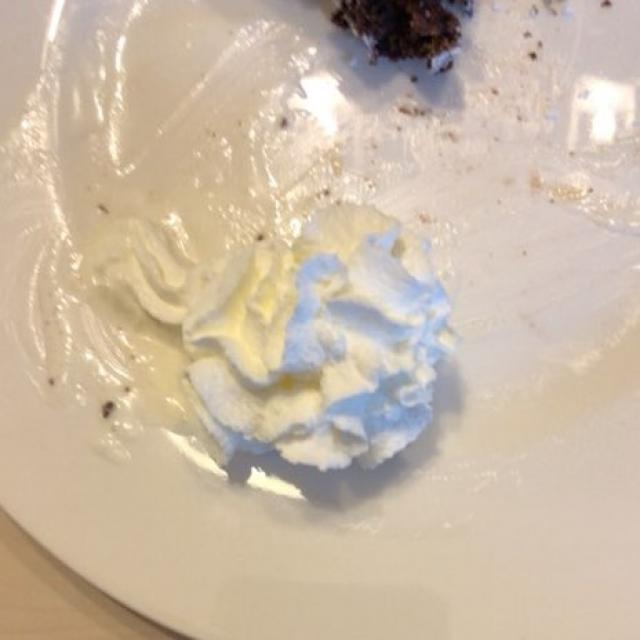cream: (183, 212, 456, 478)
